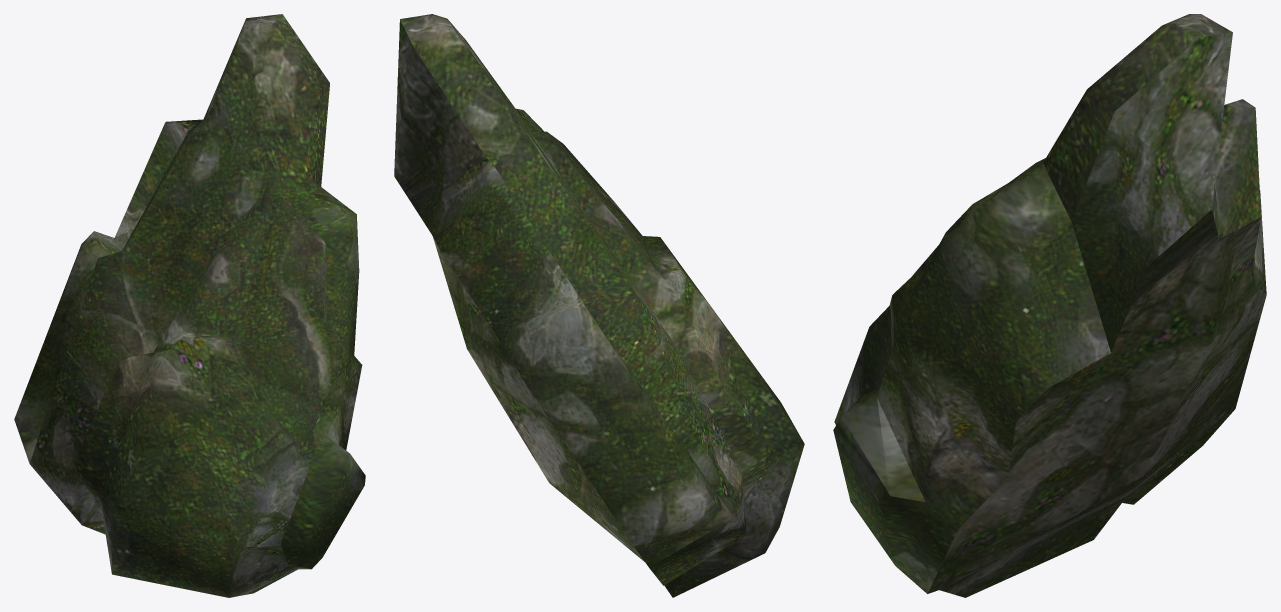
File: gonggong_shitou02.FBX
The picture shows the model from 3 angles, left to right: view 1: azimuth 30°, elevation 25°; view 2: azimuth 150°, elevation 25°; view 3: azimuth 270°, elevation 25°; orthographic projection. The views are drawn at different scales.
Visible parts, largest first — view 1: DrawCall_0082; view 2: DrawCall_0082; view 3: DrawCall_0082.
Boxes of the visible parts, x1,y1,x2,y2 form: DrawCall_0082: [14, 14, 365, 597]; DrawCall_0082: [394, 14, 804, 597]; DrawCall_0082: [833, 14, 1266, 597].
Bounding box in the file's own units: 748 × 1223 × 753.
